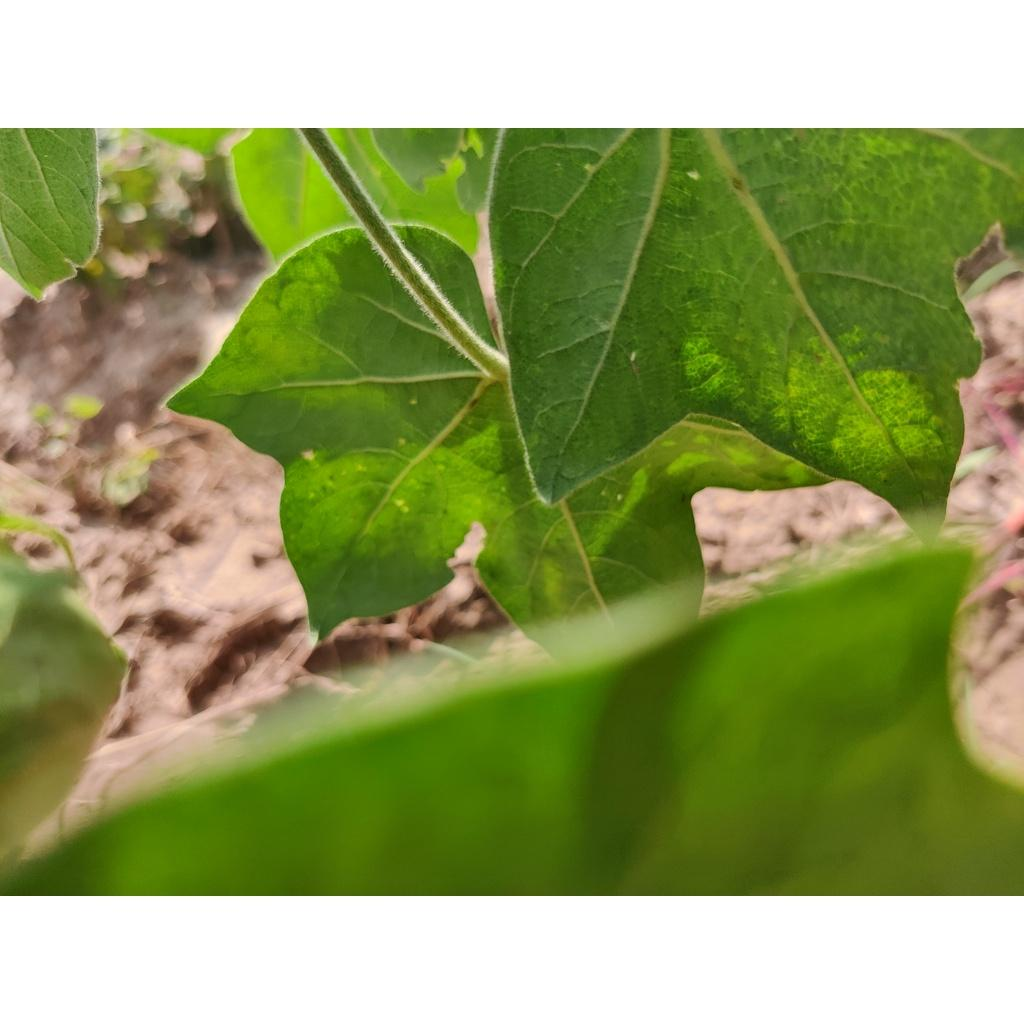adult: (629, 350, 638, 362)
